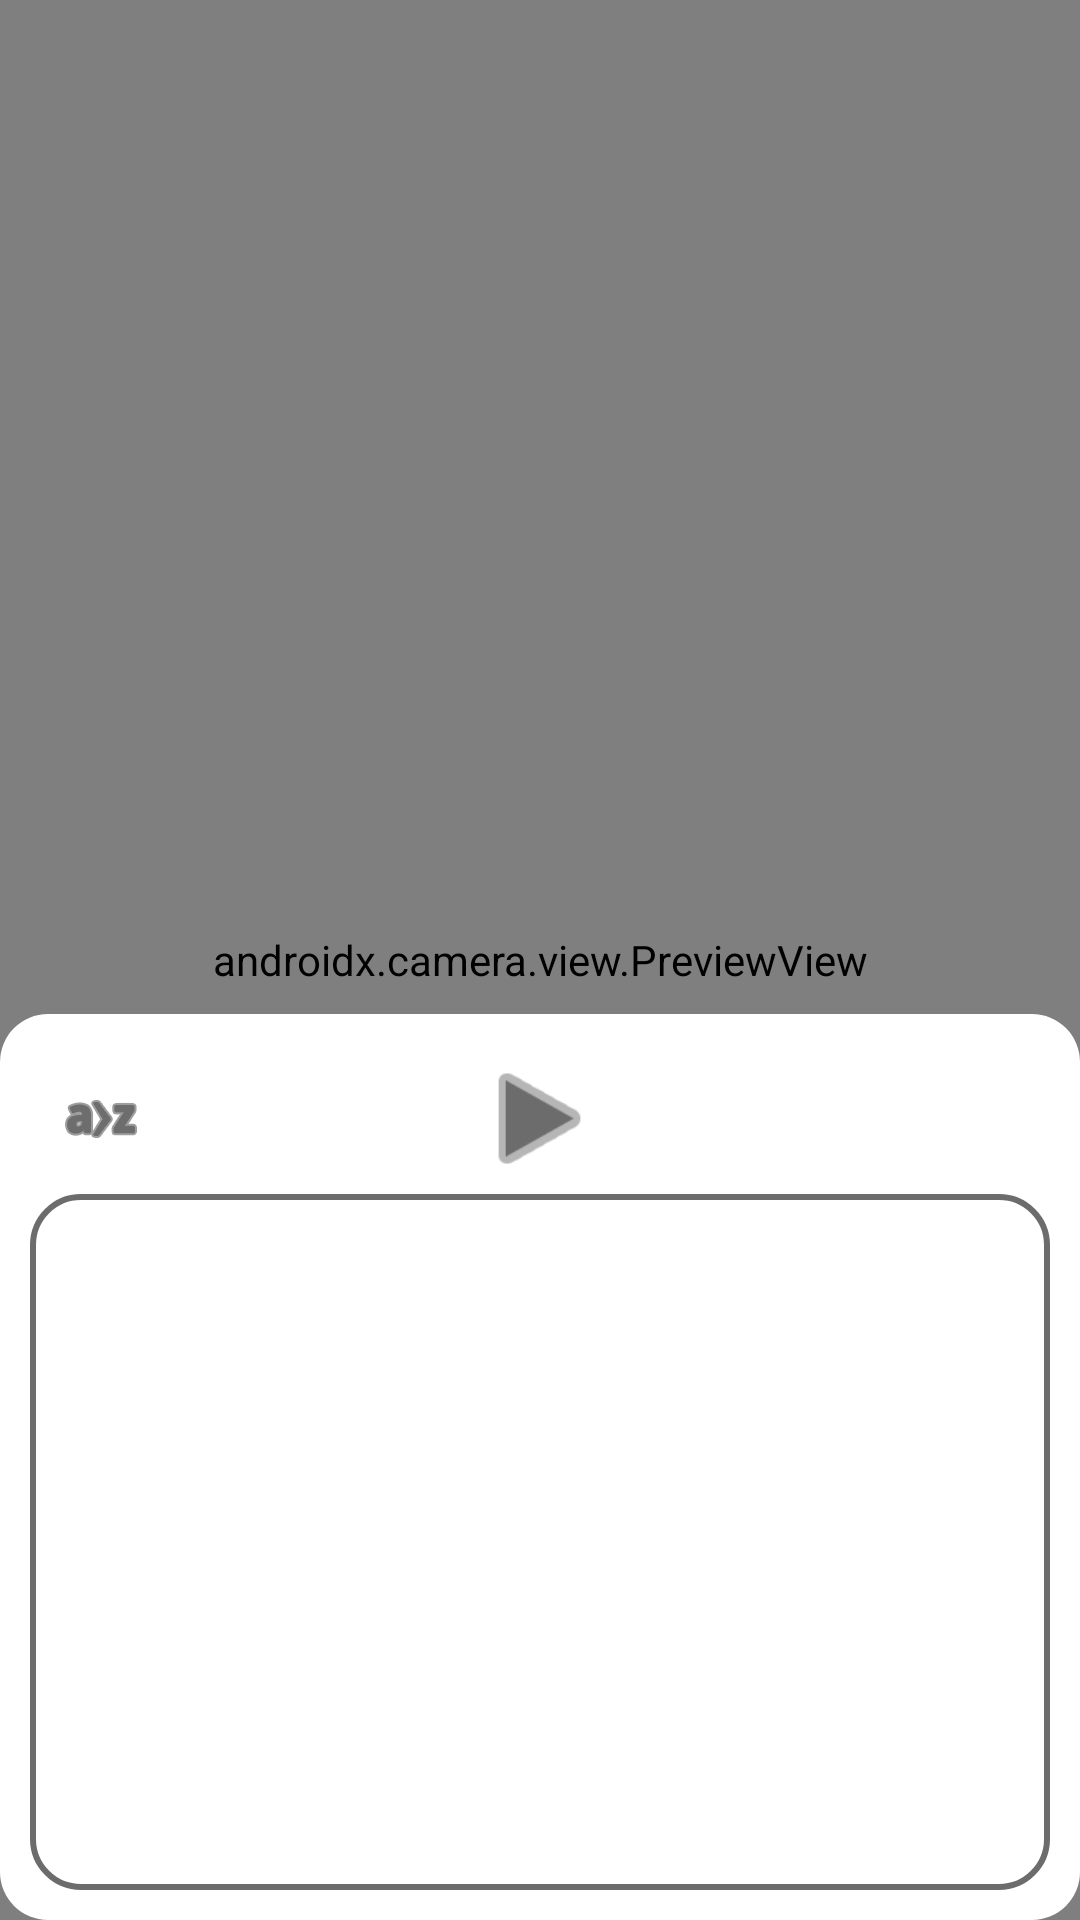

Locate icon controls on the screen. Image size 1080w x 1920h, boxes as (x1, y1, x2, y2).
play: (498, 1073, 581, 1164)
sort alphabetically: (65, 1100, 137, 1138)
